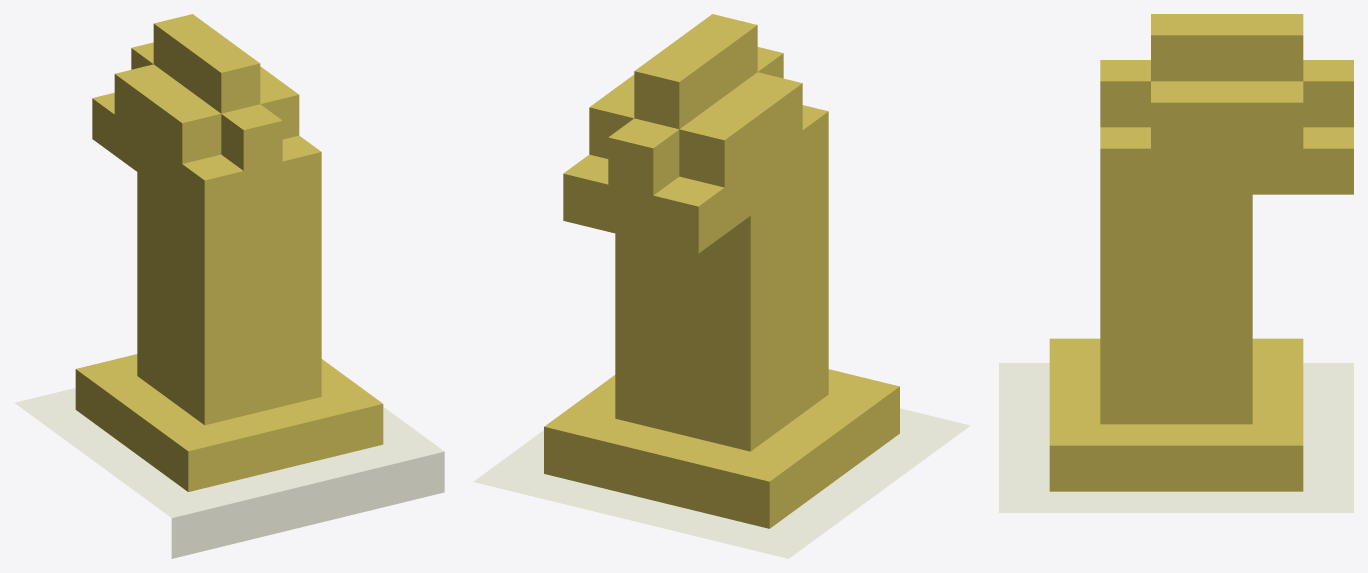
Rendered from knight-b.glb.
3 views of the same model, side by side, from view 1: azimuth 30°, elevation 25°; view 2: azimuth 150°, elevation 25°; view 3: azimuth 270°, elevation 25° (orthographic). The views are drawn at different scales.
Visible parts, largest first — view 1: root; view 2: root; view 3: root.
Boxes of the visible parts, x1,y1,x2,y2 form: root: (14,14,444,558); root: (473,14,970,558); root: (999,14,1353,512).
Size of the model in its own units: 1 by 1.43 by 1.
1 material, 1 textured.
